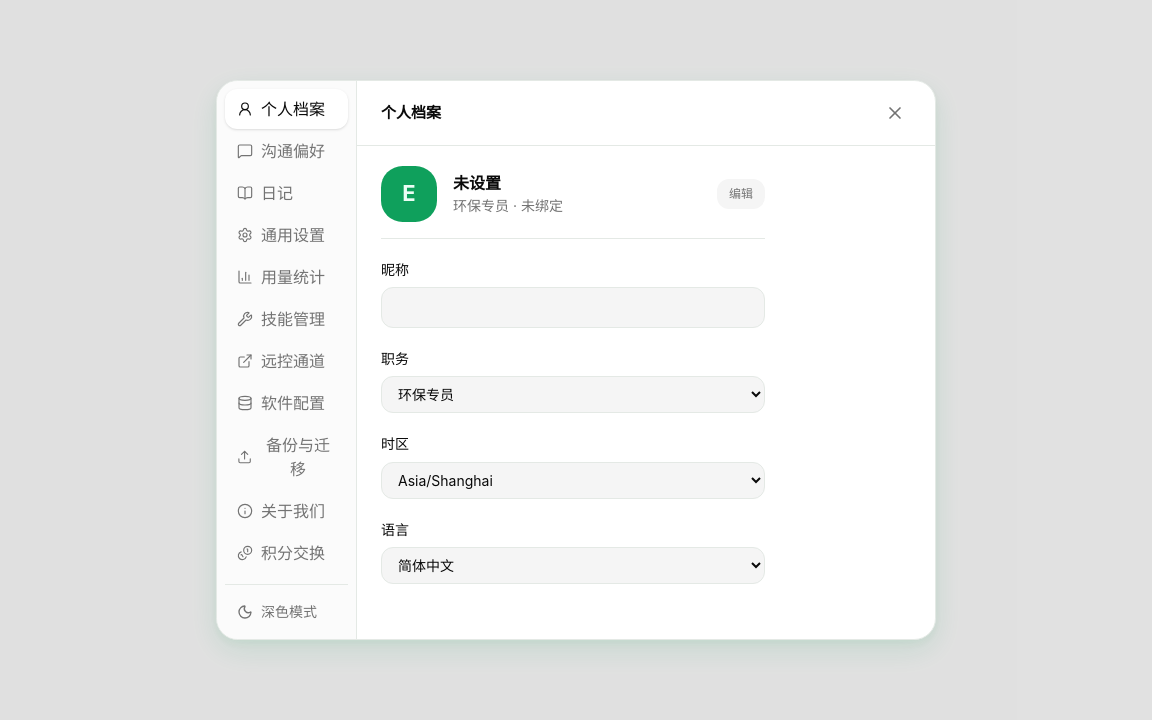
UserPanel › navigation / menu items › switches to diary tab and shows empty state
Click the button "日记".
click(286, 193)  # box [225, 173, 348, 213]
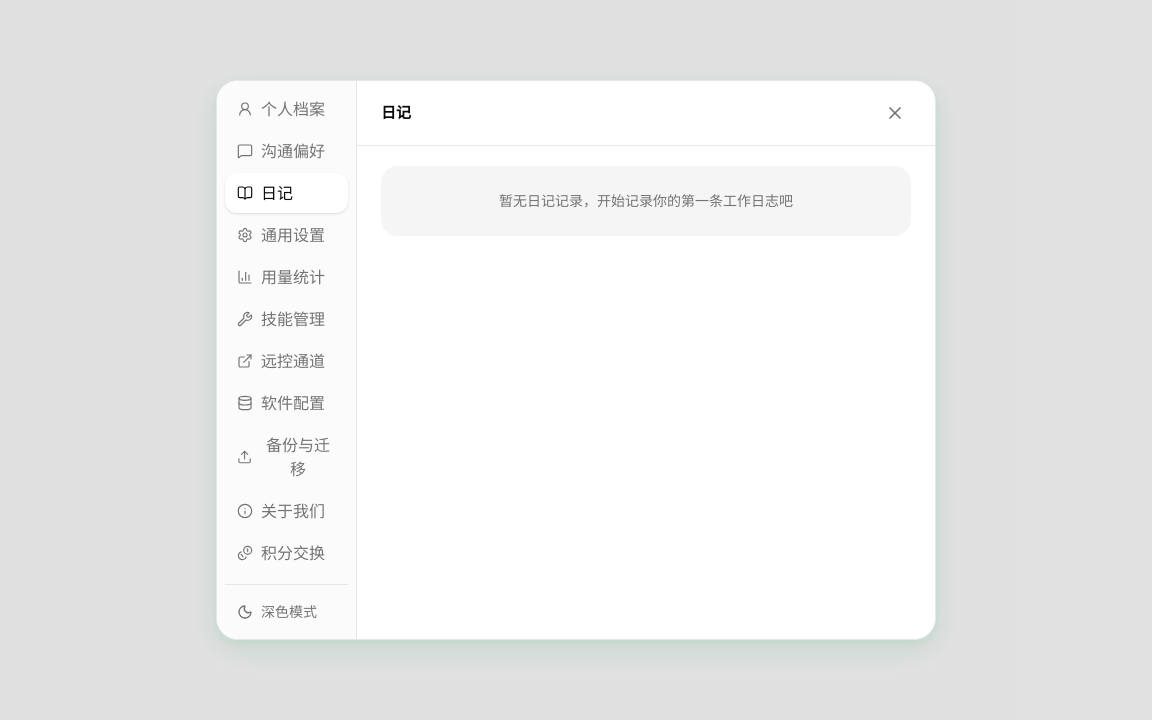
Result: the text "暂无日记记录，开始记录你的第一条工作日志吧" is shown at [381, 166, 911, 236]
